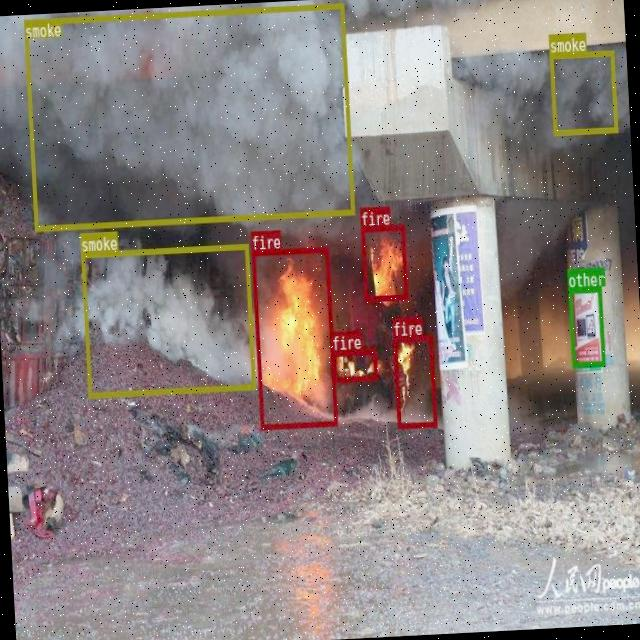fire: (252, 246, 338, 429), (393, 335, 437, 427), (360, 224, 408, 302), (331, 348, 378, 382)
smoke: (23, 2, 354, 230), (80, 243, 256, 398), (550, 50, 618, 134)
